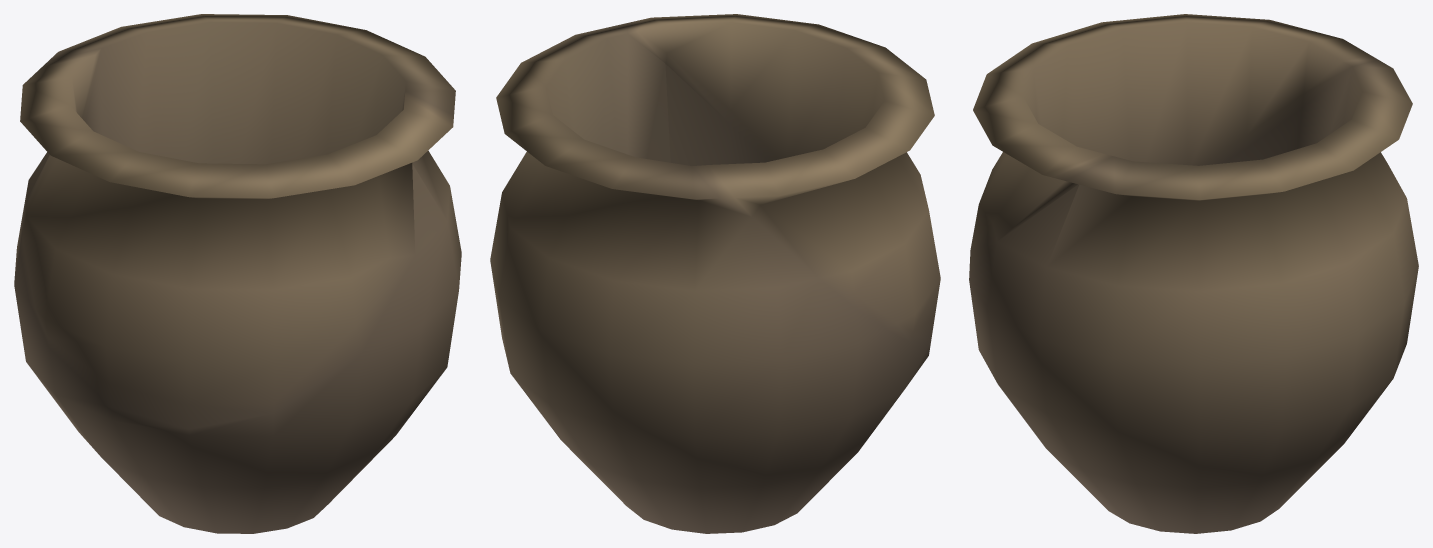
The model's file is furnishings-indoor-ceramicpot_v2.glb.
The picture shows the model from 3 angles, left to right: view 1: azimuth 30°, elevation 25°; view 2: azimuth 150°, elevation 25°; view 3: azimuth 270°, elevation 25°; orthographic projection.
Parts seen in each view (by area): view 1: CeramicPot_v2; view 2: CeramicPot_v2; view 3: CeramicPot_v2.
Boxes of the visible parts, x1,y1,x2,y2 form: CeramicPot_v2: (14, 14, 461, 533); CeramicPot_v2: (490, 14, 940, 533); CeramicPot_v2: (969, 14, 1418, 533).
Bounding box in the file's own units: 0.418 × 0.4087 × 0.4159.
